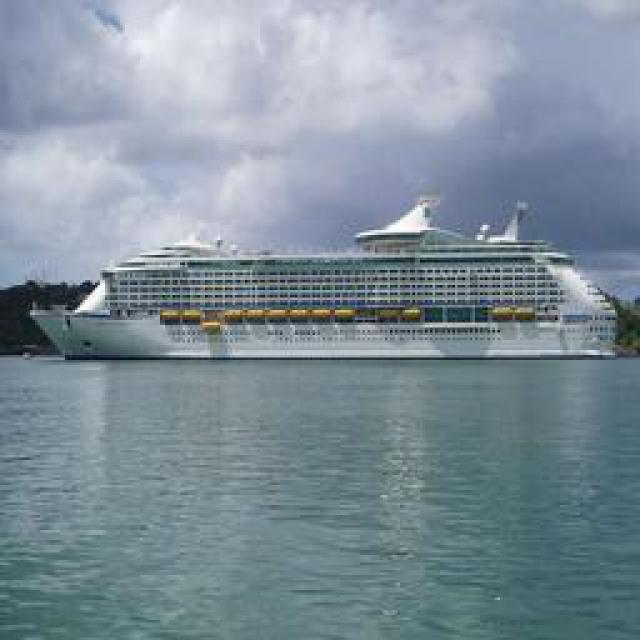Ship: (40, 201, 620, 364)
